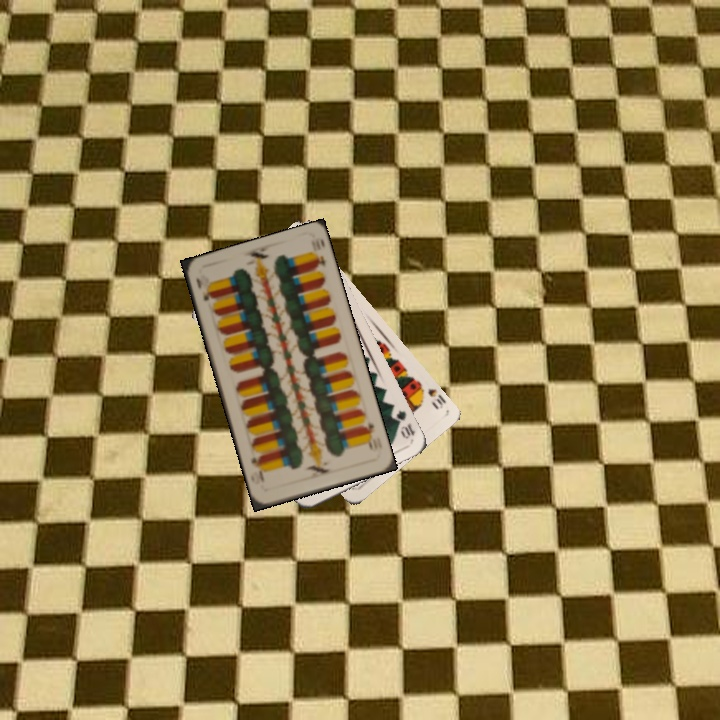E10: (192, 274, 216, 303), (359, 418, 376, 453)
G10: (389, 406, 418, 442)
S10: (414, 380, 448, 412)
